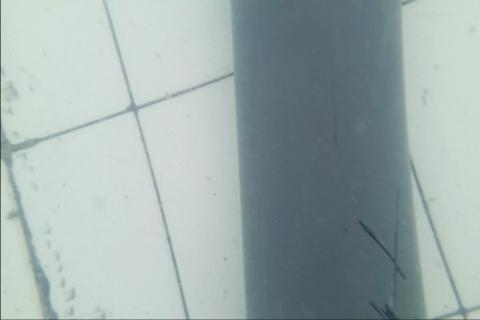keretakan: (357, 187, 408, 320)
